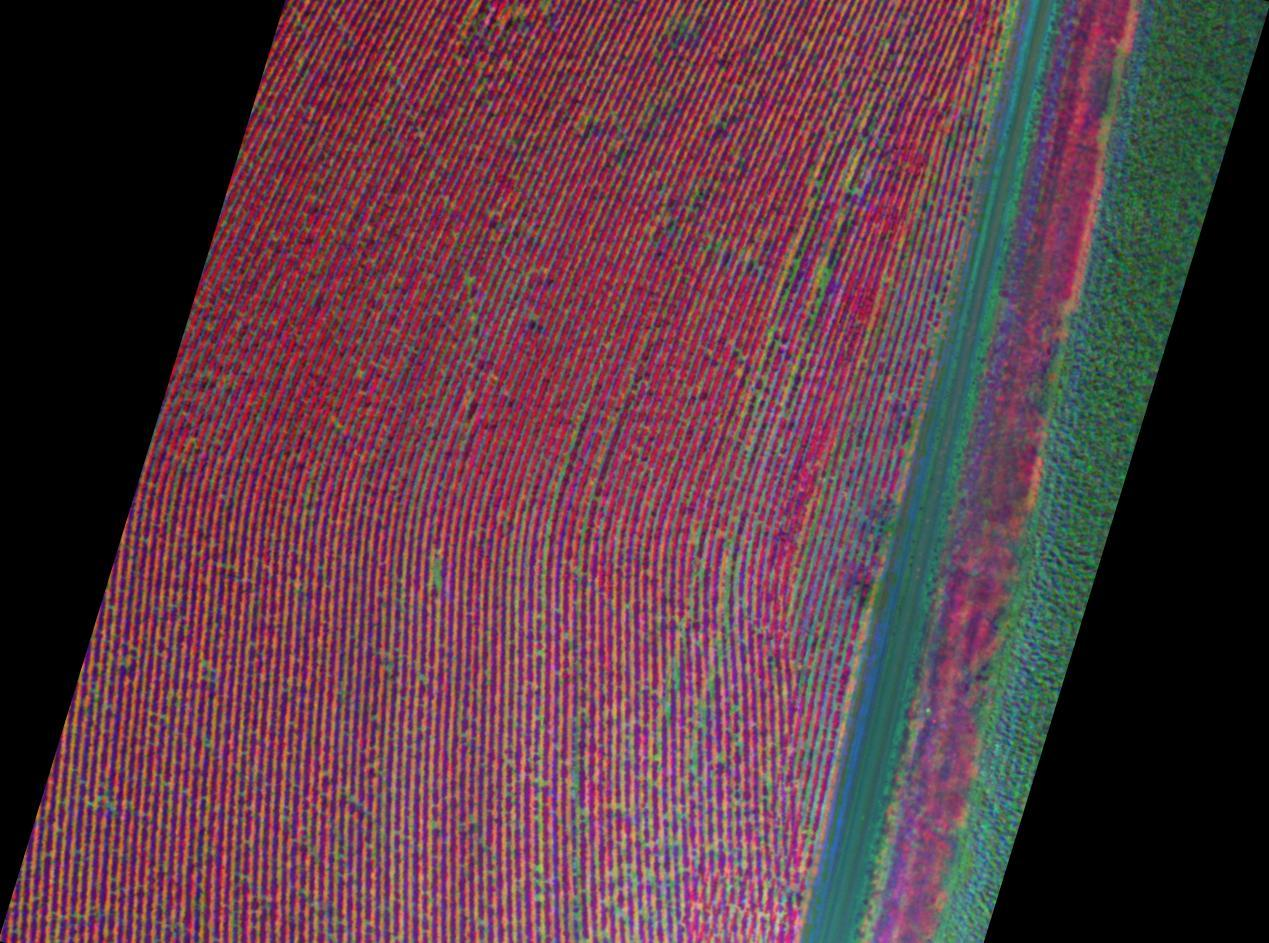dc: (437, 580, 441, 585), (539, 781, 544, 785), (538, 896, 543, 900), (715, 248, 719, 251), (827, 270, 830, 274), (823, 283, 826, 287), (434, 570, 438, 573)
